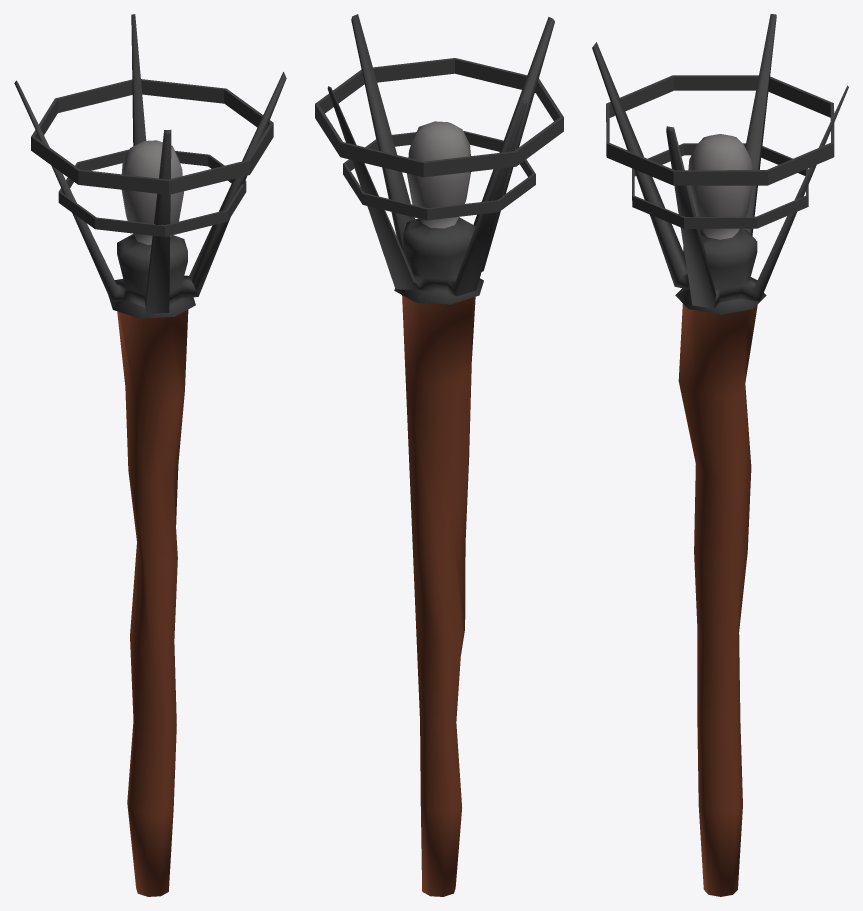
File: Fackel.fbx
3 views of the same model, side by side, from view 1: azimuth 30°, elevation 25°; view 2: azimuth 150°, elevation 25°; view 3: azimuth 270°, elevation 25° (orthographic). The views are drawn at different scales.
Visible parts, largest first — view 1: Cube; view 2: Cube; view 3: Cube.
Part boxes in pixels (bbox=[...]): Cube: bbox=[14, 14, 286, 896]; Cube: bbox=[315, 14, 563, 896]; Cube: bbox=[592, 14, 848, 896].
Size of the model in its own units: 52.57 by 187 by 52.67.
